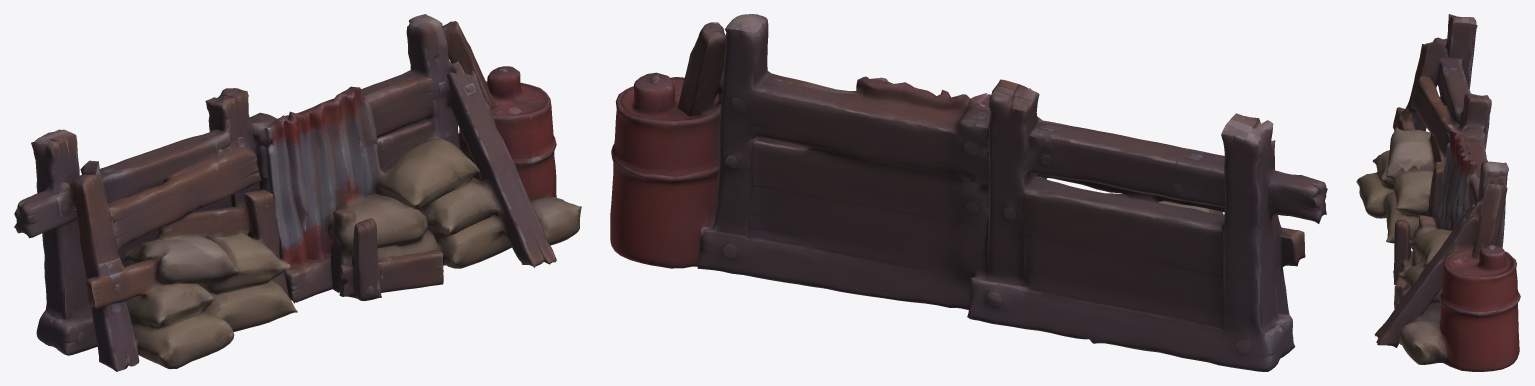
File: barricade.glb
3 renders of one model, left to right at view 1: azimuth 30°, elevation 25°; view 2: azimuth 150°, elevation 25°; view 3: azimuth 270°, elevation 25°, orthographic. The views are drawn at different scales.
Visible parts, largest first — view 1: tripo_node_1dd2fa6f; view 2: tripo_node_1dd2fa6f; view 3: tripo_node_1dd2fa6f.
Part boxes in pixels (bbox=[...]): tripo_node_1dd2fa6f: bbox=[14, 14, 581, 371]; tripo_node_1dd2fa6f: bbox=[610, 14, 1327, 371]; tripo_node_1dd2fa6f: bbox=[1356, 14, 1520, 371].
Size of the model in its own units: 99.51 by 36.06 by 32.12.
1 material, 1 textured.
